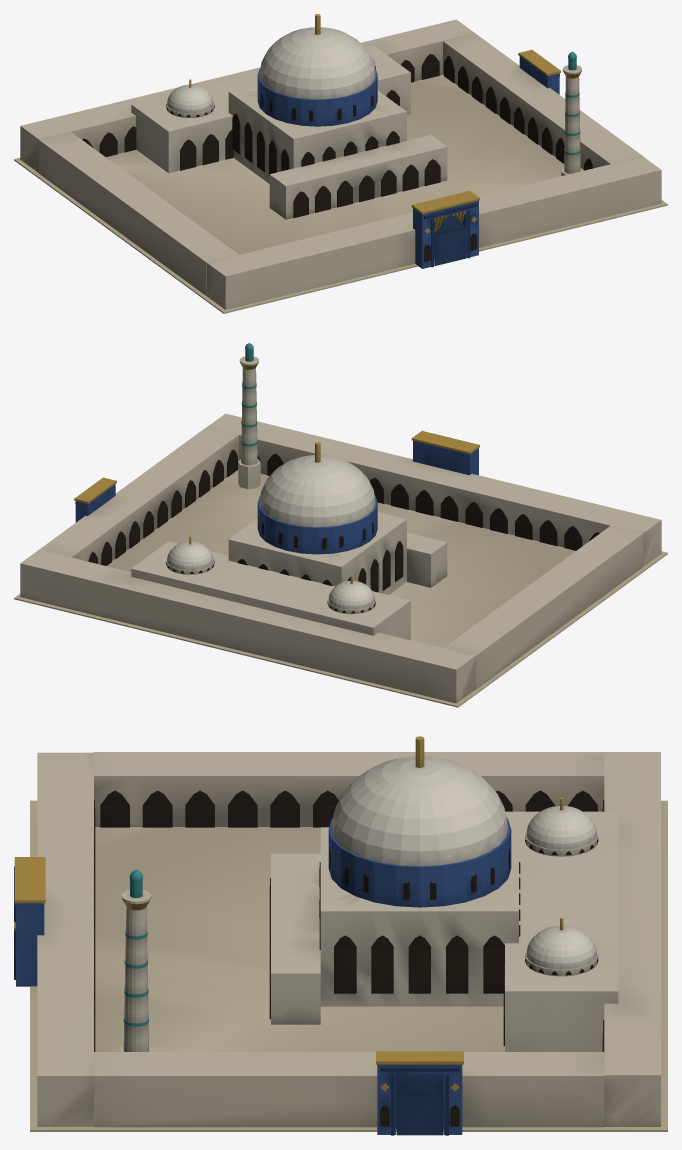
The model's file is gilani-mosque.glb.
3 views of the same model, one above another, from view 1: azimuth 30°, elevation 25°; view 2: azimuth 150°, elevation 25°; view 3: azimuth 270°, elevation 25° (orthographic). The views are drawn at different scales.
Parts seen in each view (by area): view 1: p0_court, p2_tomb and prayer hall, p3_domes and minaret, p1_gates; view 2: p0_court, p2_tomb and prayer hall, p3_domes and minaret, p1_gates; view 3: p0_court, p2_tomb and prayer hall, p3_domes and minaret, p1_gates.
Part boxes in pixels (x1,y1,x2,y2): p0_court: (14, 19, 667, 313); p2_tomb and prayer hall: (131, 45, 447, 219); p3_domes and minaret: (166, 14, 583, 175); p1_gates: (411, 49, 560, 268); p0_court: (14, 413, 667, 707); p2_tomb and prayer hall: (131, 512, 447, 640); p3_domes and minaret: (166, 343, 377, 614); p1_gates: (74, 431, 479, 522); p0_court: (30, 752, 667, 1131); p2_tomb and prayer hall: (269, 811, 618, 1051); p3_domes and minaret: (120, 736, 598, 1051); p1_gates: (14, 857, 463, 1135).
Bounding box in the file's own units: 112 × 35.67 × 92.28.
